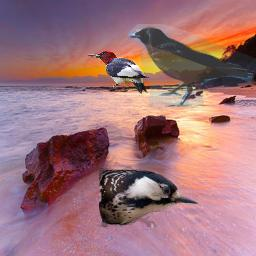Crow: (128, 24, 256, 108)
Woodpecker: (99, 165, 198, 227), (88, 51, 149, 94)
